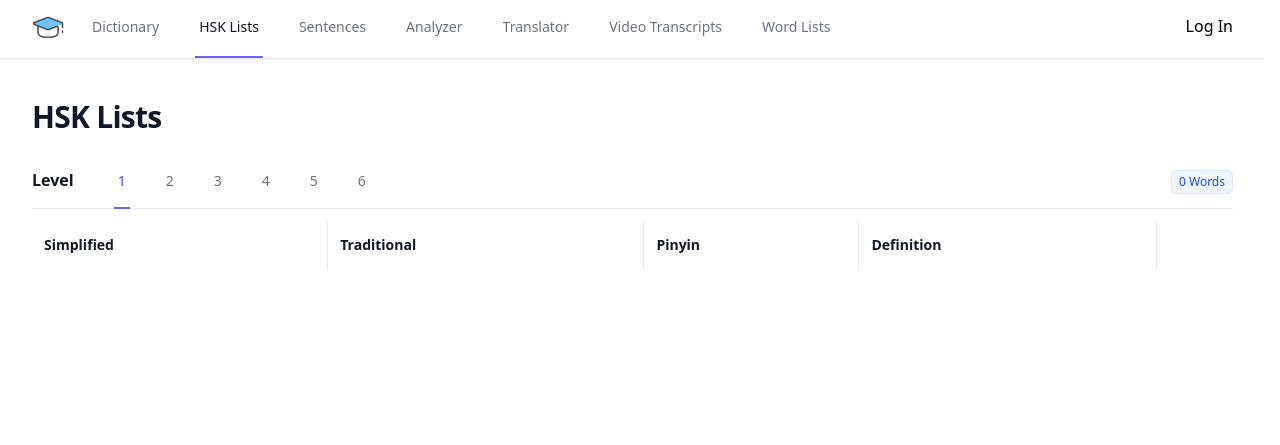
HSKListsPage › updates data when changing HSK level
The width and height of the screenshot is (1280, 445).
Click the button "2". click: [170, 190]
box: [162,170,178,208]
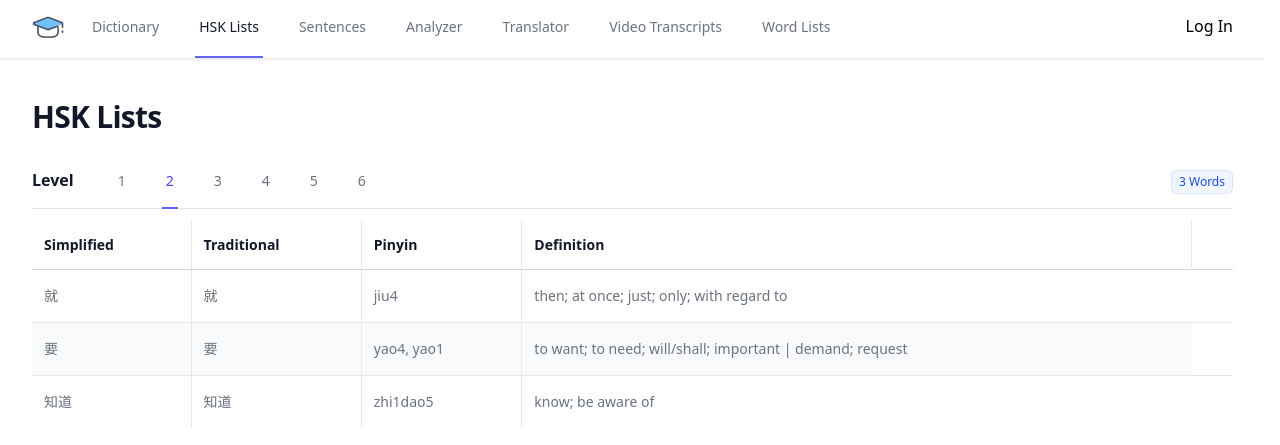
Check: the text "就" is shown 2 times, box [32,269,191,322]; [191,269,361,322]
Check: the text "要" is shown 2 times, box [32,322,191,375]; [191,322,361,375]
Check: the text "知道" is shown 2 times, box [32,375,191,428]; [191,375,361,428]
